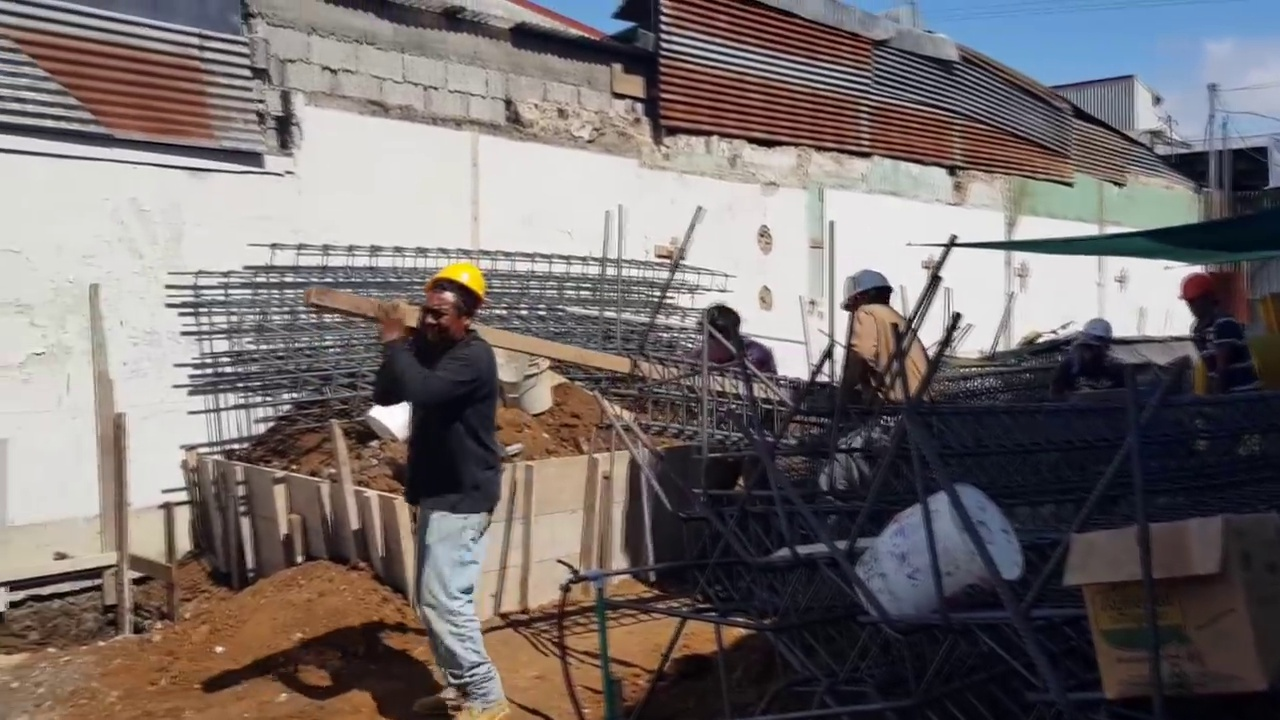helmet: (422, 260, 488, 307), (840, 268, 899, 307), (1178, 272, 1211, 303), (1075, 319, 1113, 341)
helmet-off: (695, 304, 744, 365)
helmet-on: (419, 259, 488, 348), (840, 267, 900, 315), (1178, 274, 1223, 327), (1075, 318, 1114, 357)
person: (368, 259, 515, 720), (821, 267, 928, 500), (683, 299, 787, 516), (1179, 272, 1257, 384), (1053, 319, 1130, 394)
